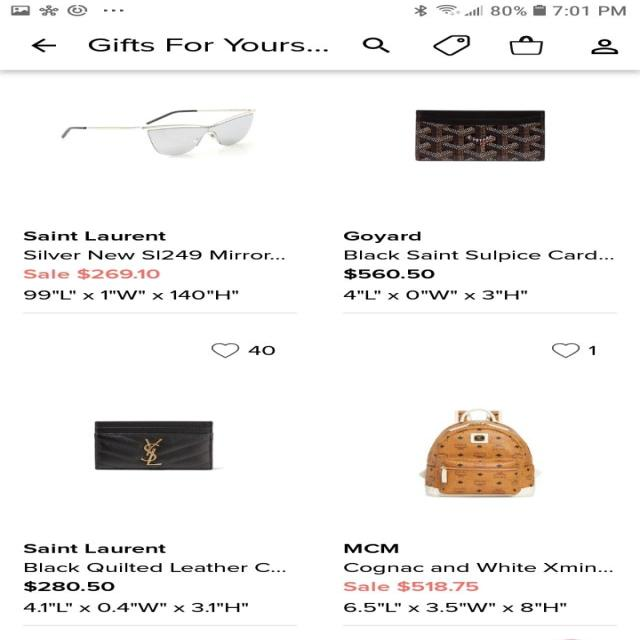Icon: (432, 35, 470, 56), (508, 36, 544, 56), (210, 342, 240, 358), (550, 343, 580, 358), (589, 39, 618, 54), (362, 38, 389, 53), (31, 39, 57, 53)
Image: (419, 408, 542, 496), (60, 109, 257, 158), (414, 110, 544, 161), (94, 421, 212, 469)
Text: (88, 38, 328, 53), (343, 562, 613, 574), (343, 250, 612, 262), (23, 562, 286, 572), (23, 250, 285, 260), (23, 602, 249, 612), (343, 602, 566, 612), (23, 290, 238, 300), (342, 290, 527, 300), (23, 268, 160, 280), (343, 580, 478, 592), (23, 543, 166, 553), (23, 230, 166, 240), (342, 268, 435, 280), (24, 580, 116, 592), (342, 231, 420, 244), (343, 543, 398, 553), (248, 346, 276, 355), (586, 346, 594, 355)
